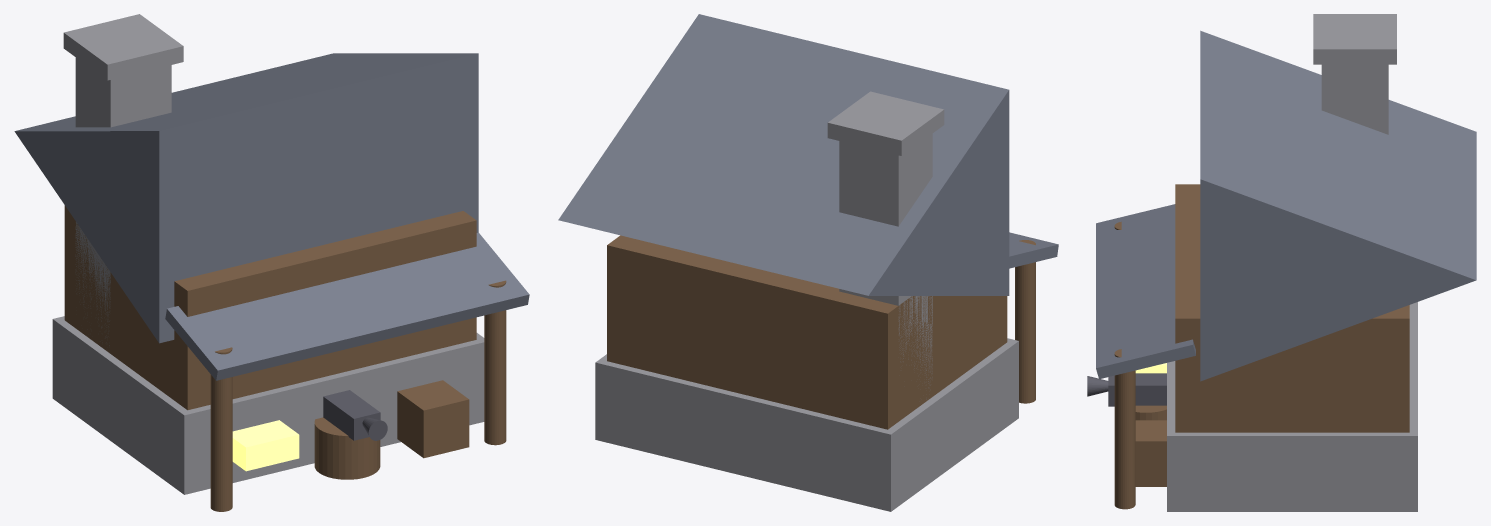
The model's file is Forja_Real_Spectacular.fbx.
3 views of the same model, side by side, from view 1: azimuth 30°, elevation 25°; view 2: azimuth 150°, elevation 25°; view 3: azimuth 270°, elevation 25° (orthographic). The views are drawn at different scales.
Visible parts, largest first — view 1: Pitched_Roof, Timber_Walls, Stone_Foundation, Porch_Awning, Stone_Chimney, Chimney_Cap, Water_Trough, Porch_Post_-3.6, Porch_Post_3.6, Anvil_Stump, Coals_Basin, Steel_Anvil; view 2: Pitched_Roof, Timber_Walls, Stone_Foundation, Stone_Chimney, Chimney_Cap, Porch_Post_-3.6, Porch_Awning; view 3: Pitched_Roof, Timber_Walls, Stone_Foundation, Porch_Awning, Chimney_Cap, Stone_Chimney, Porch_Post_3.6, Water_Trough, Steel_Anvil, Anvil_Stump.
Part boxes in pixels (x1,y1,x2,y2): Pitched_Roof: (14, 53, 478, 343); Timber_Walls: (64, 205, 476, 410); Stone_Foundation: (52, 316, 484, 494); Porch_Awning: (165, 232, 529, 380); Stone_Chimney: (75, 57, 171, 352); Chimney_Cap: (63, 14, 183, 80); Water_Trough: (397, 380, 469, 458); Porch_Post_-3.6: (210, 347, 232, 511); Porch_Post_3.6: (484, 280, 506, 445); Anvil_Stump: (314, 417, 380, 479); Coals_Basin: (232, 420, 299, 471); Steel_Anvil: (323, 390, 380, 440); Pitched_Roof: (558, 14, 1009, 295); Timber_Walls: (607, 235, 1007, 429); Stone_Foundation: (595, 338, 1018, 511); Stone_Chimney: (839, 134, 932, 399); Chimney_Cap: (827, 91, 944, 155); Porch_Post_-3.6: (1015, 240, 1035, 403); Porch_Awning: (1009, 232, 1058, 268); Pitched_Roof: (1200, 30, 1476, 381); Timber_Walls: (1175, 184, 1409, 432); Stone_Foundation: (1167, 302, 1417, 511); Porch_Awning: (1096, 204, 1195, 379); Chimney_Cap: (1313, 14, 1396, 64); Stone_Chimney: (1321, 64, 1388, 134); Porch_Post_3.6: (1114, 349, 1135, 509); Water_Trough: (1135, 420, 1166, 486); Steel_Anvil: (1108, 373, 1166, 406); Anvil_Stump: (1135, 405, 1166, 420).
Bounding box in the file's own units: 840 × 940 × 930.
